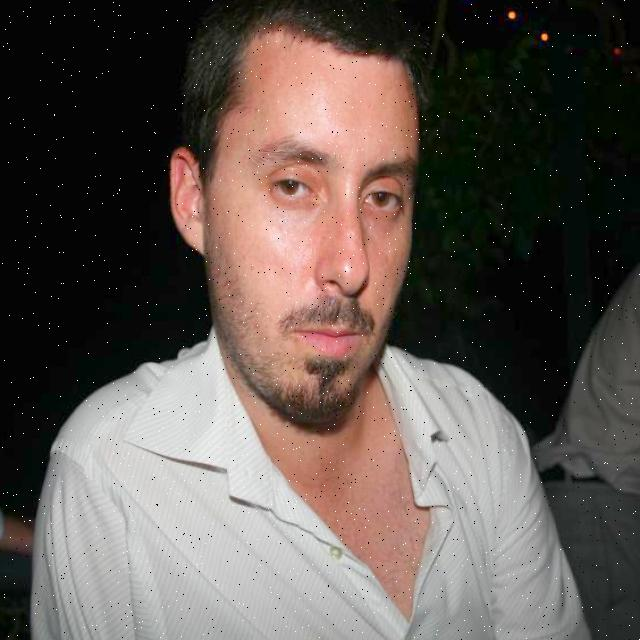puffy_eyes: (272, 200, 322, 227), (363, 204, 397, 235)
